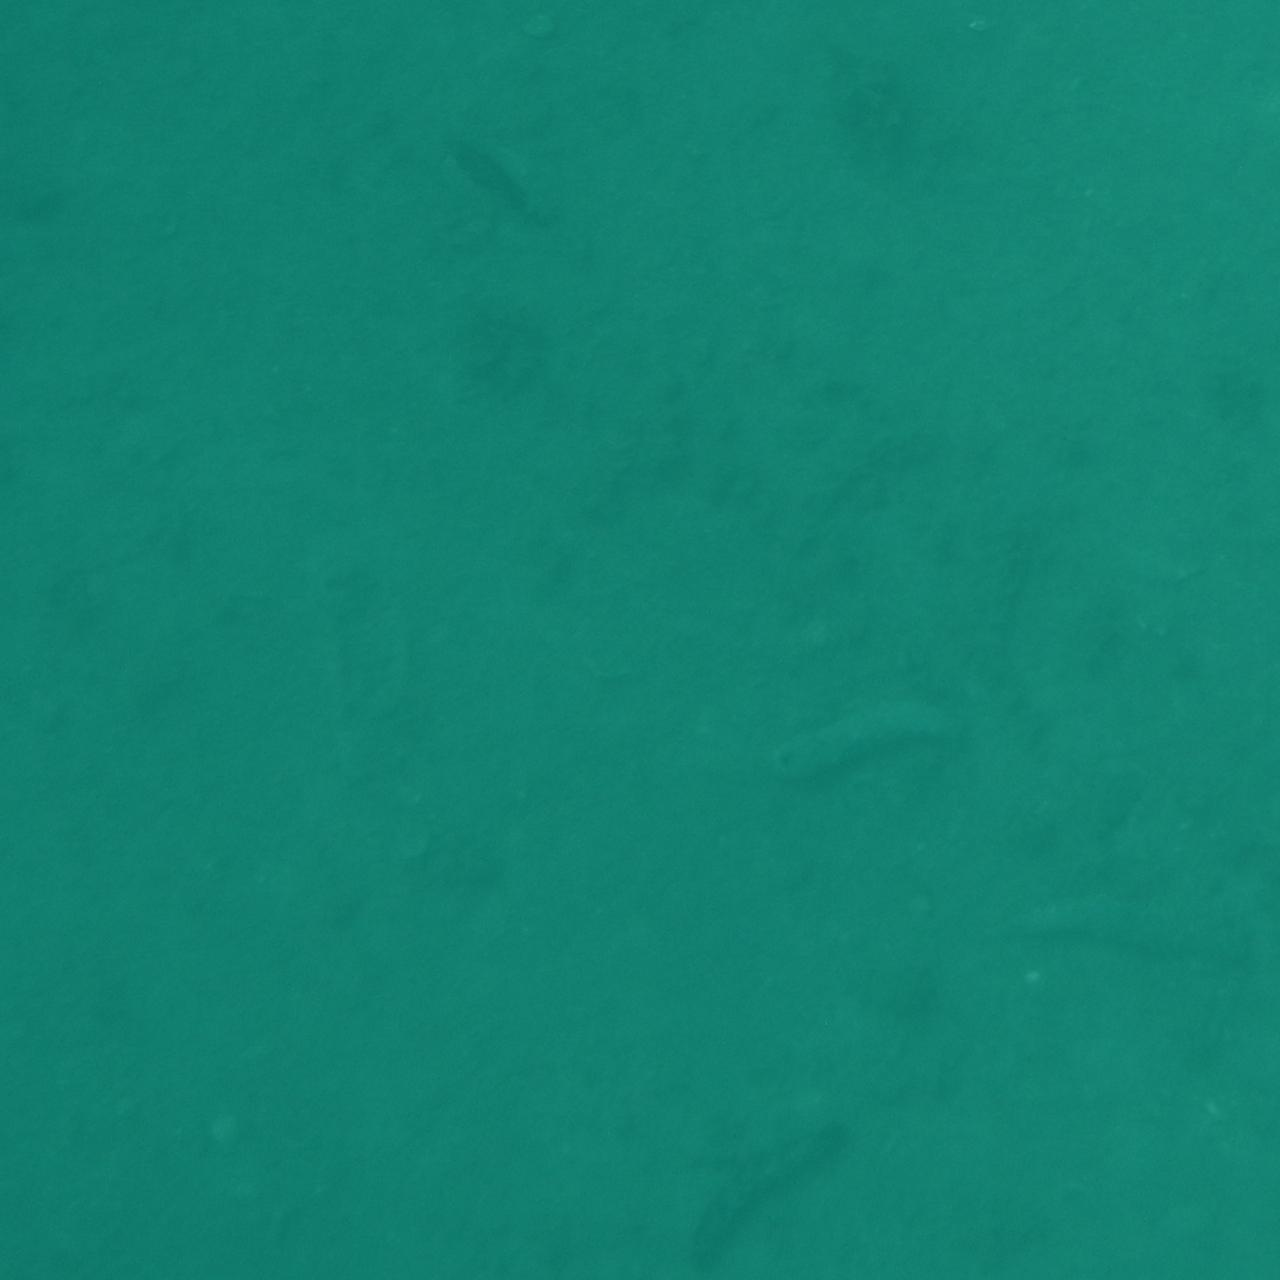Holothuria tubulosa: (665, 1092, 896, 1280), (1021, 829, 1280, 989), (730, 673, 980, 823), (425, 129, 577, 273), (0, 0, 198, 101), (445, 1198, 567, 1280)
